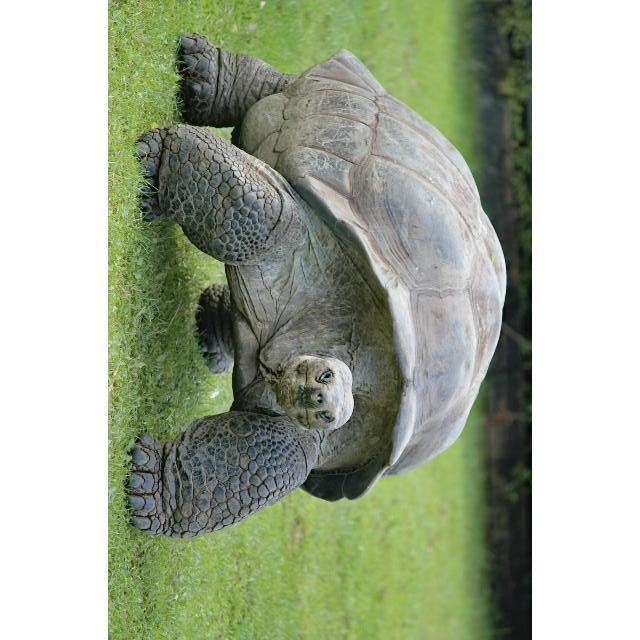turtle: (125, 32, 508, 540)
